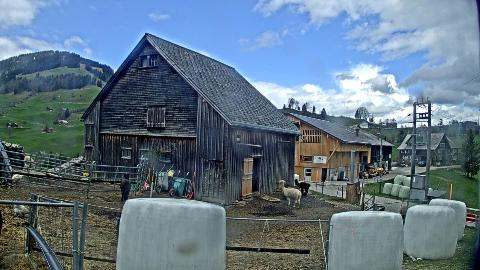car: (418, 161, 426, 167)
sheep: (278, 180, 301, 208), (120, 174, 131, 202), (295, 180, 311, 196), (24, 155, 38, 171)
